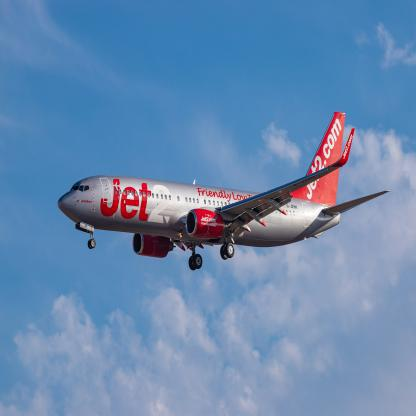CIV_Plane: (49, 107, 392, 275)
